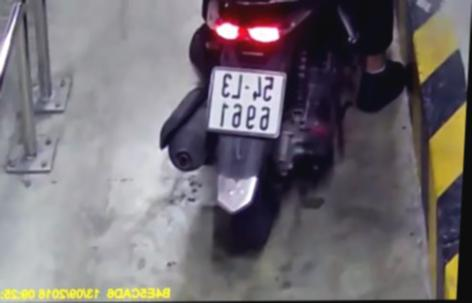License_Plate: (202, 66, 294, 137)
